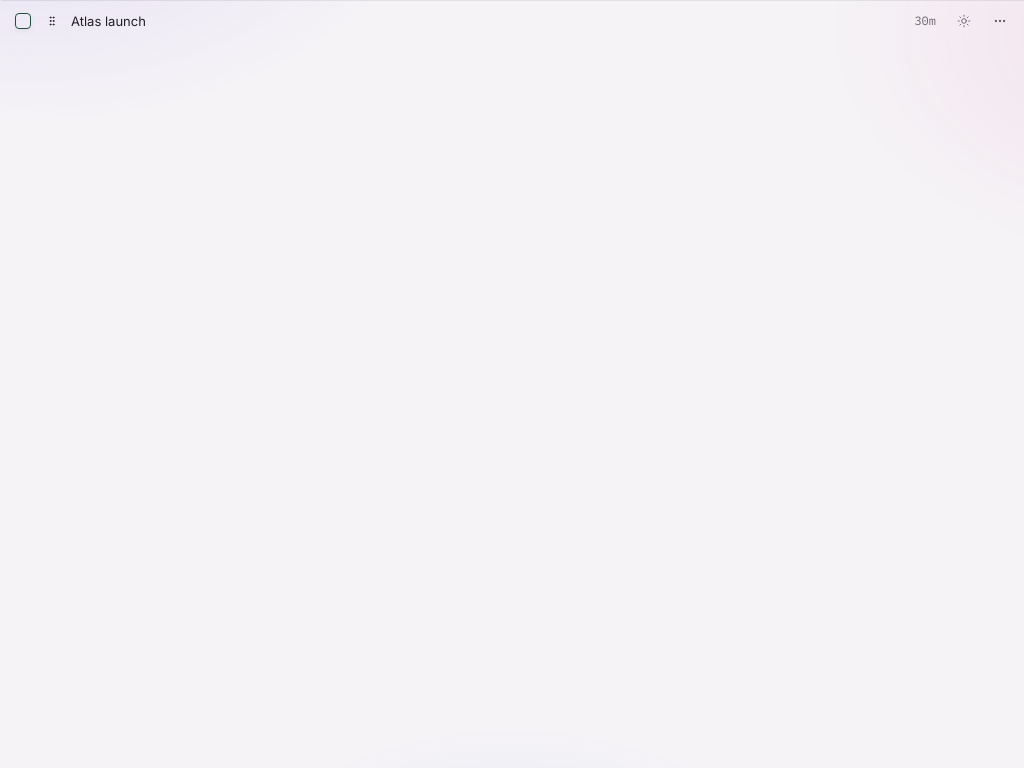
Test: TaskRow — pickers opened from ⋯ (chunk 77a) › (1) Set priority… stays open and holds focus
This screenshot has width=1024, height=768.
Press Enter in the button named "Actions for \"Atlas launch\"", box [988, 9, 1012, 33]
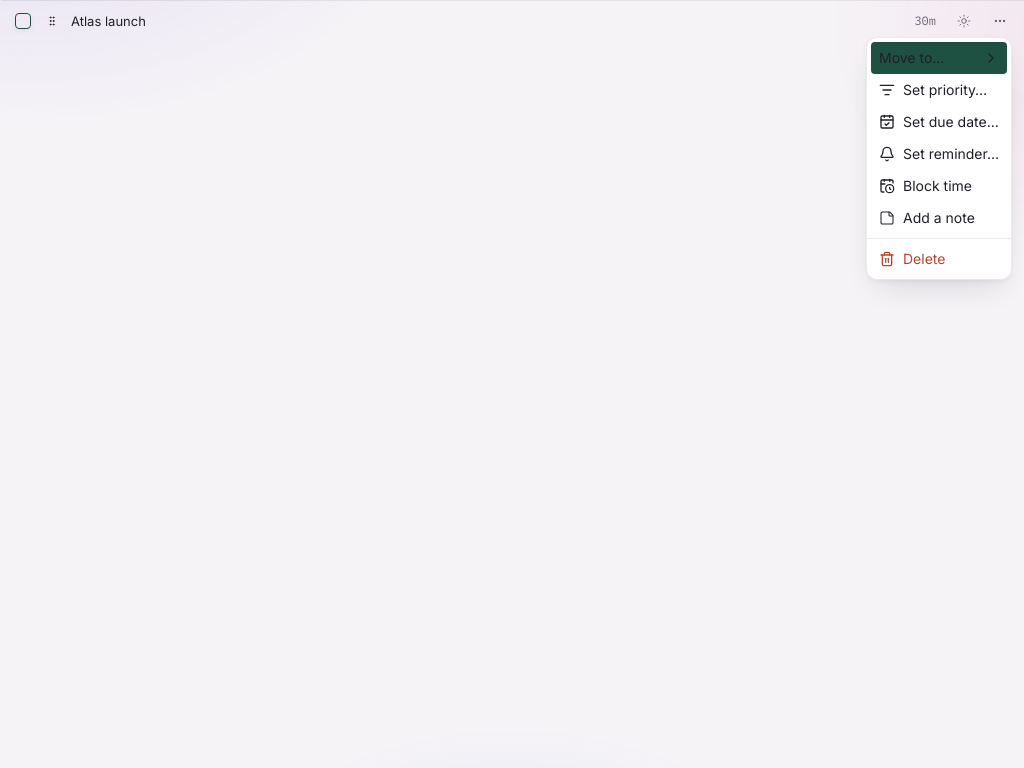
Click the menu item "Set priority…": [933, 90] box [879, 81, 987, 98]
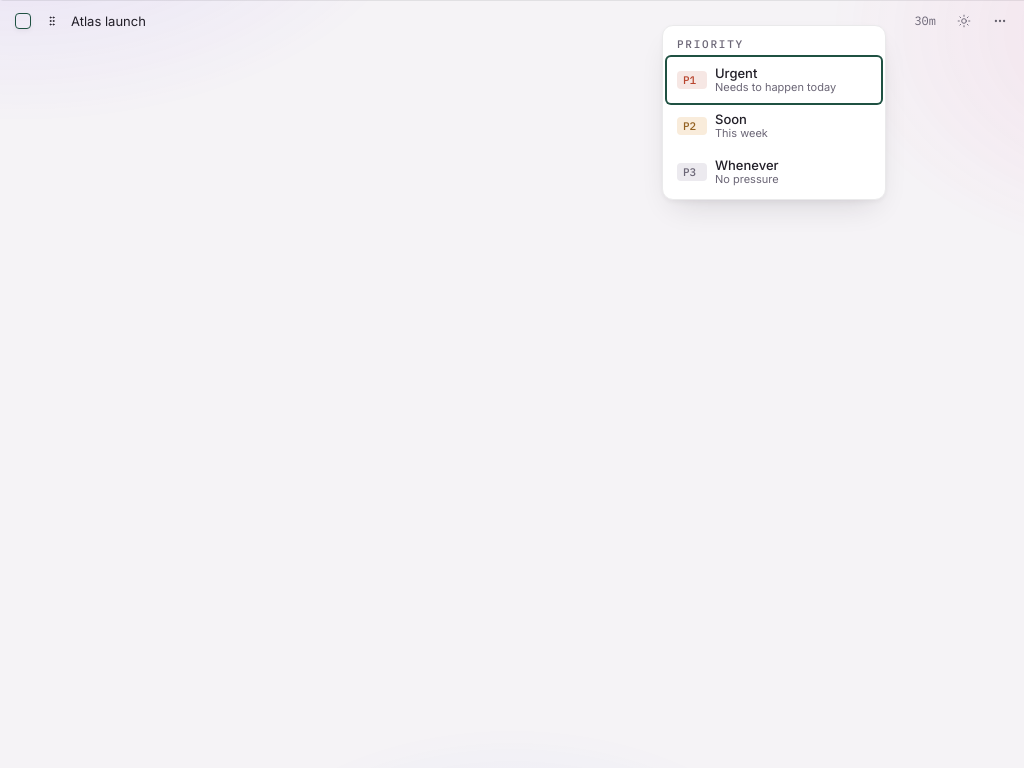
Now the text "Priority" is shown, box [677, 37, 744, 51]
Now the menu is gone
Now the number of dialogs is 1, box [662, 25, 886, 200]
